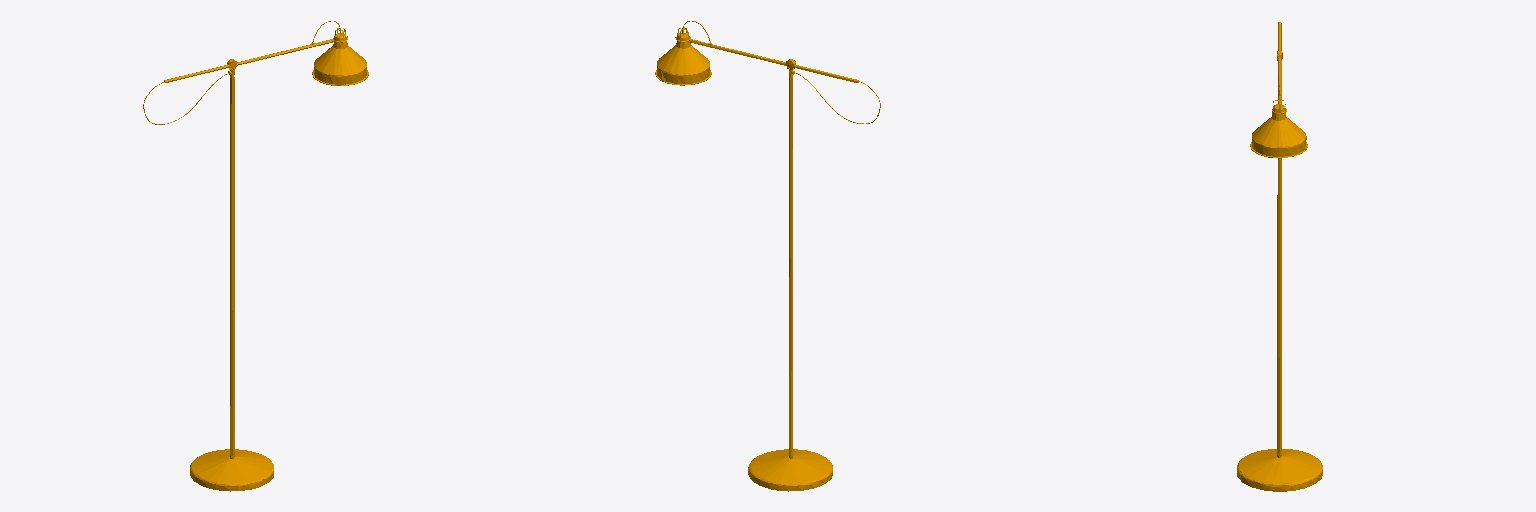
The robot description file, URDF, robot "ygqcutFJ":
<?xml version='1.0' encoding='us-ascii'?>
<robot name="ygqcutFJ">
   <link name="base_link">
      <visual>
         <origin xyz="0.0 0.0 0.0" />
         <geometry>
            <mesh filename="shape\visual\floor_lamp-ozknkr-0.obj" />
         </geometry>
      </visual>
      <collision>
         <origin xyz="0.0 0.0 0.0" />
         <geometry>
            <mesh filename="shape\collision\floor_lamp-ozknkr-0.obj" />
         </geometry>
      </collision>
   </link>
</robot>

--- Render facts (derived) ---
The picture shows the robot from 3 angles, left to right: view 1: azimuth 30°, elevation 25°; view 2: azimuth 150°, elevation 25°; view 3: azimuth 270°, elevation 25°; orthographic projection.
Robot: ygqcutFJ — 1 links, 0 joints (none); root link base_link; default pose: all joints at 0.
Visible links, largest first — view 1: base_link; view 2: base_link; view 3: base_link.
Link boxes in pixels (x1,y1,x2,y2): base_link: (143,21,368,491); base_link: (655,21,880,491); base_link: (1237,22,1322,491).
Bounding box of the posed robot: 0.8458 × 0.281 × 1.56 m (x, y, z).
1 mesh visuals loaded from 1 distinct referenced files (1 OBJ).
